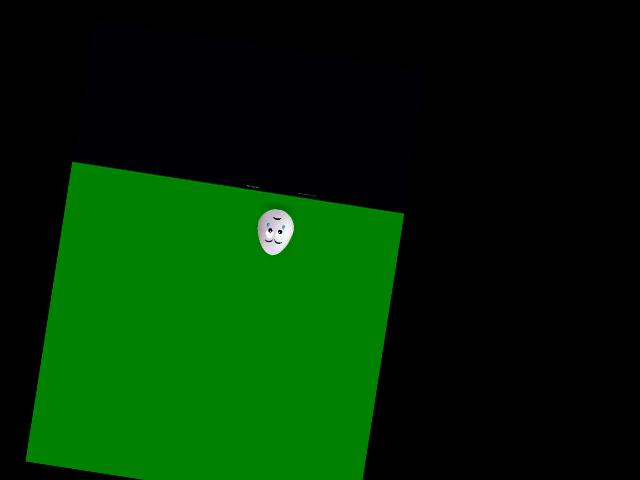egg: (253, 206, 296, 257)
